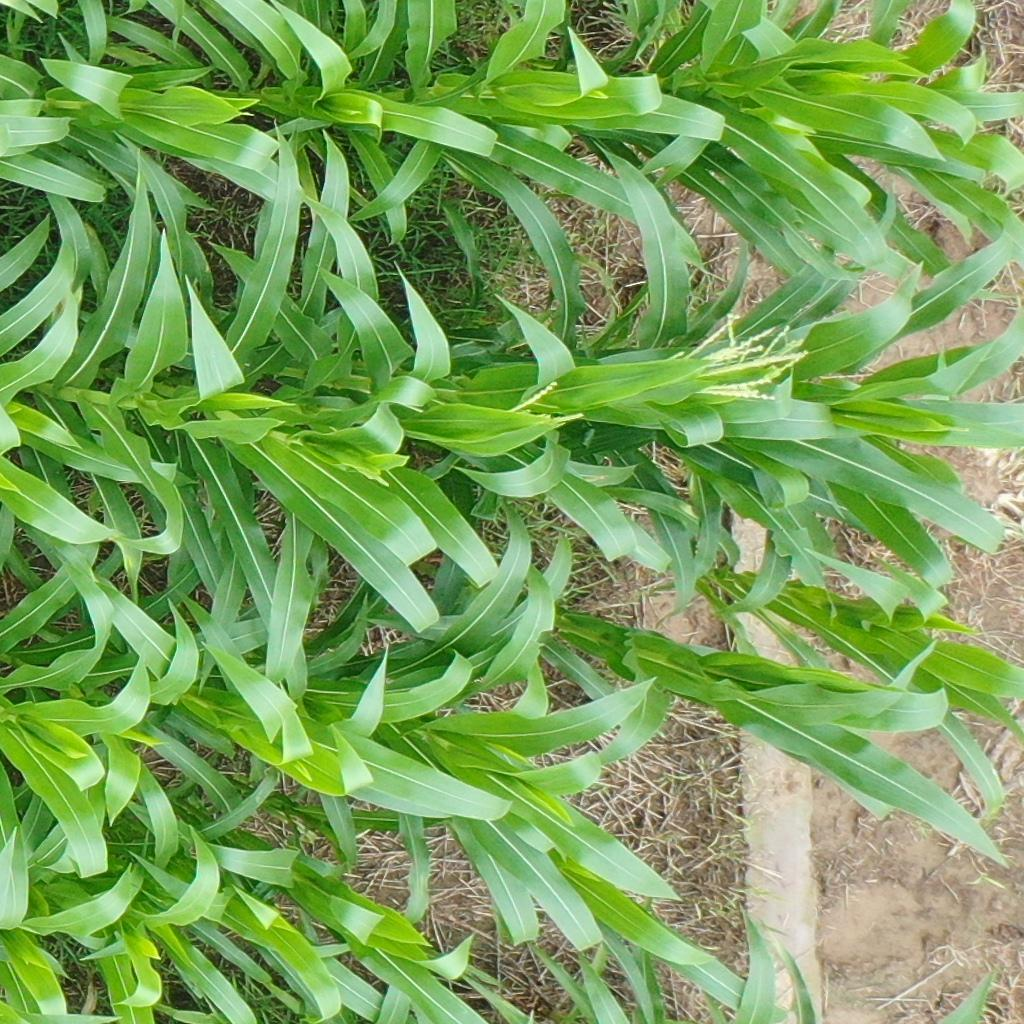Tassel: (659, 303, 806, 410), (511, 372, 594, 442)
